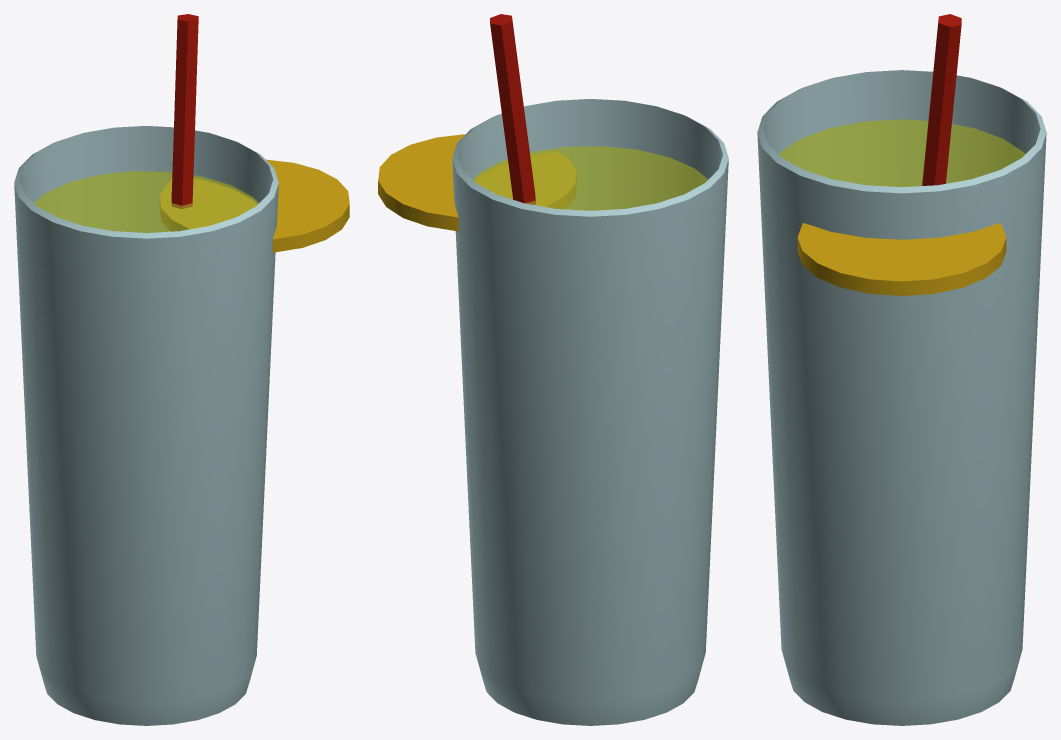
The model's file is food-lemon-soda-s0.glb.
3 renders of one model, left to right at view 1: azimuth 30°, elevation 25°; view 2: azimuth 150°, elevation 25°; view 3: azimuth 270°, elevation 25°, orthographic. The views are drawn at different scales.
Visible parts, largest first — view 1: glass__glass, liquid__glass_tint, lemon__food, straw__plastic; view 2: glass__glass, liquid__glass_tint, lemon__food, straw__plastic; view 3: glass__glass, lemon__food, liquid__glass_tint, straw__plastic.
Boxes of the visible parts, x1,y1,x2,y2 form: glass__glass: [14, 126, 278, 725]; liquid__glass_tint: [34, 171, 258, 232]; lemon__food: [159, 159, 349, 252]; straw__plastic: [171, 14, 198, 208]; glass__glass: [452, 99, 728, 725]; liquid__glass_tint: [473, 146, 708, 210]; lemon__food: [378, 134, 576, 231]; straw__plastic: [490, 14, 535, 204]; glass__glass: [757, 70, 1046, 725]; lemon__food: [797, 223, 1006, 295]; liquid__glass_tint: [778, 119, 1025, 187]; straw__plastic: [922, 14, 961, 185].
Size of the model in its own units: 0.096 by 0.1905 by 0.072.
